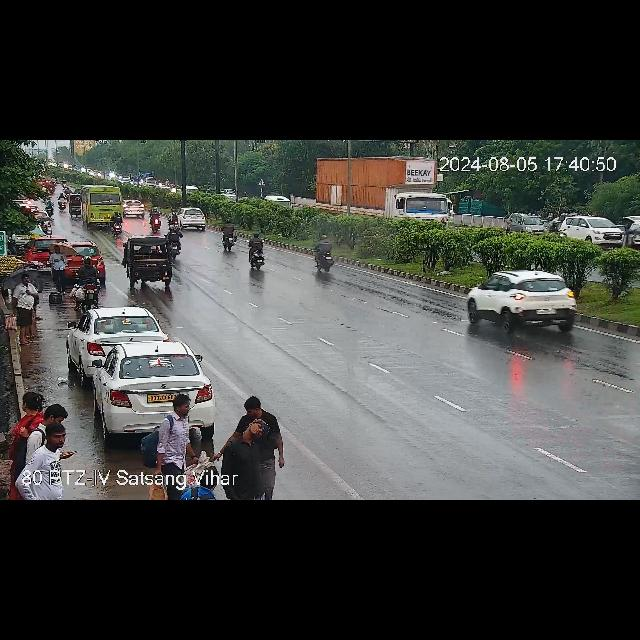bus: (77, 186, 131, 230)
car: (92, 342, 230, 452), (463, 259, 587, 347), (68, 304, 166, 388), (119, 235, 185, 291), (559, 206, 629, 247), (48, 242, 112, 286), (61, 238, 105, 288), (23, 233, 73, 269), (501, 207, 547, 236), (174, 202, 210, 234), (260, 187, 300, 210), (621, 206, 640, 248), (122, 193, 146, 219), (65, 190, 85, 218), (14, 198, 44, 215), (33, 212, 56, 234), (222, 185, 240, 199), (116, 176, 136, 187), (184, 186, 200, 194)
motorcycle: (68, 248, 105, 314), (314, 228, 342, 280), (214, 210, 243, 256), (246, 224, 272, 274), (164, 223, 188, 261), (106, 210, 128, 238), (4, 236, 30, 254), (146, 207, 164, 233), (546, 216, 562, 238), (165, 208, 179, 232), (55, 193, 71, 211), (43, 197, 57, 216), (62, 186, 74, 202), (39, 183, 51, 197), (46, 180, 56, 194), (50, 176, 60, 187), (242, 186, 250, 198), (62, 176, 68, 190), (164, 178, 172, 186)
person: (220, 388, 290, 497), (18, 384, 84, 464), (144, 394, 206, 474), (212, 411, 270, 495), (24, 416, 70, 469), (15, 388, 50, 457), (12, 254, 40, 340), (46, 241, 76, 291), (37, 214, 55, 233)
truck: (308, 156, 440, 228), (142, 172, 160, 188)
